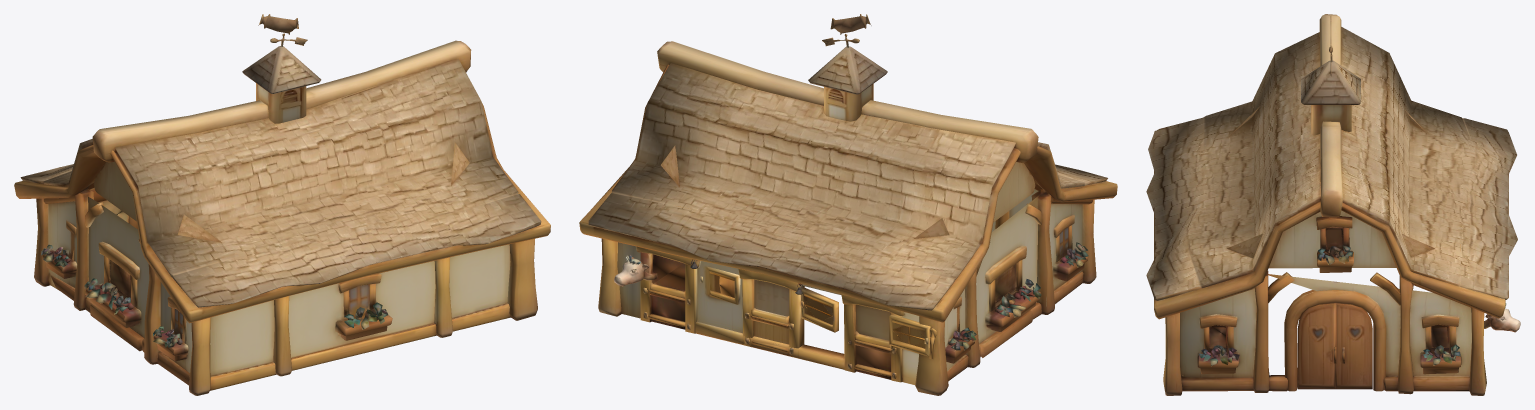
Rendered from cowshed.glb.
3 renders of one model, left to right at view 1: azimuth 30°, elevation 25°; view 2: azimuth 150°, elevation 25°; view 3: azimuth 270°, elevation 25°, orthographic.
Visible parts, largest first — view 1: tripo_node_9e48e1e2-705b-42b5-919d-18a4572c103a; view 2: tripo_node_9e48e1e2-705b-42b5-919d-18a4572c103a; view 3: tripo_node_9e48e1e2-705b-42b5-919d-18a4572c103a.
Part boxes in pixels (left/top/right/bottom): tripo_node_9e48e1e2-705b-42b5-919d-18a4572c103a: left=14, top=14, right=550, bottom=395; tripo_node_9e48e1e2-705b-42b5-919d-18a4572c103a: left=579, top=14, right=1117, bottom=395; tripo_node_9e48e1e2-705b-42b5-919d-18a4572c103a: left=1146, top=14, right=1520, bottom=395.
Bounding box in the file's own units: 0.998 × 0.7363 × 0.8691.
1 material, 1 textured.
